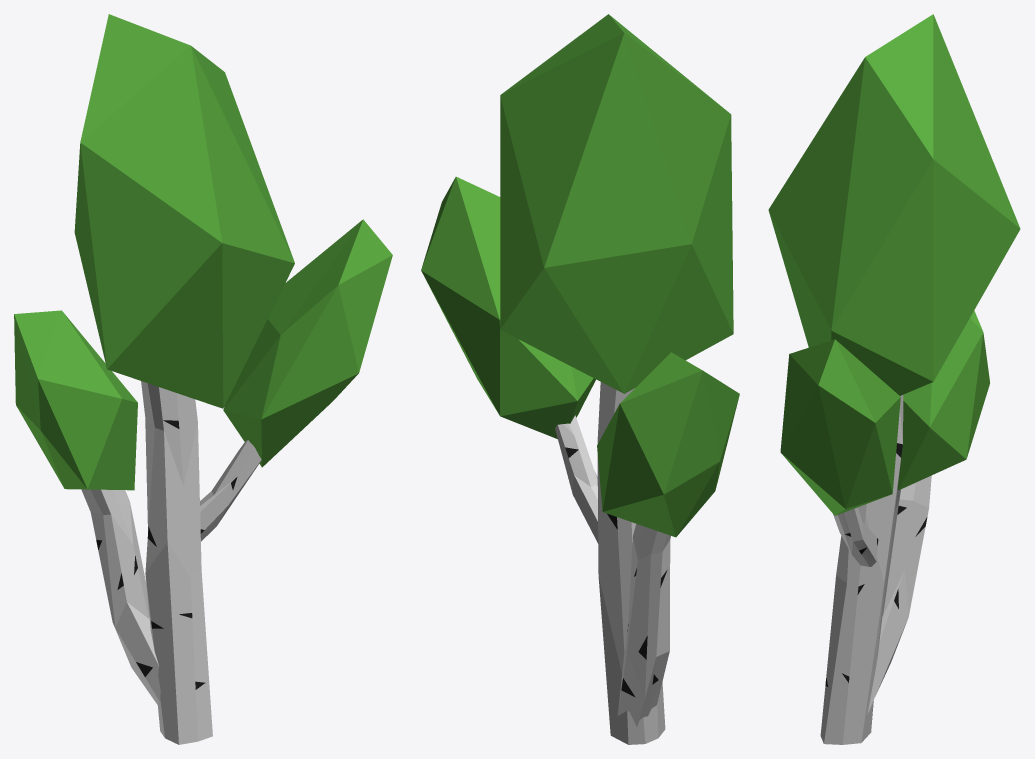
The model's file is BirchTree1.fbx.
The picture shows the model from 3 angles, left to right: view 1: azimuth 30°, elevation 25°; view 2: azimuth 150°, elevation 25°; view 3: azimuth 270°, elevation 25°; orthographic projection. The views are drawn at different scales.
Visible parts, largest first — view 1: pPlatonic6, pCube8; view 2: pPlatonic6, pCube8; view 3: pPlatonic6, pCube8.
Part boxes in pixels (bbox=[...]): pPlatonic6: bbox=[14, 14, 392, 490]; pCube8: bbox=[81, 381, 261, 744]; pPlatonic6: bbox=[421, 14, 739, 537]; pCube8: bbox=[555, 382, 670, 744]; pPlatonic6: bbox=[768, 14, 1020, 515]; pCube8: bbox=[820, 395, 931, 744].
Bounding box in the file's own units: 3.95 × 8.29 × 2.68.
